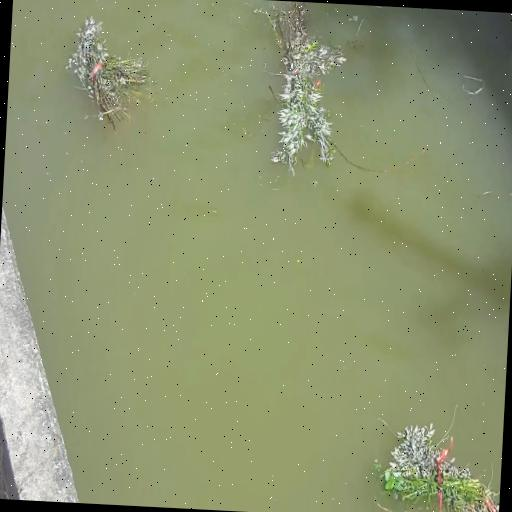twig: (252, 1, 346, 179), (369, 404, 504, 512), (59, 8, 165, 136)
